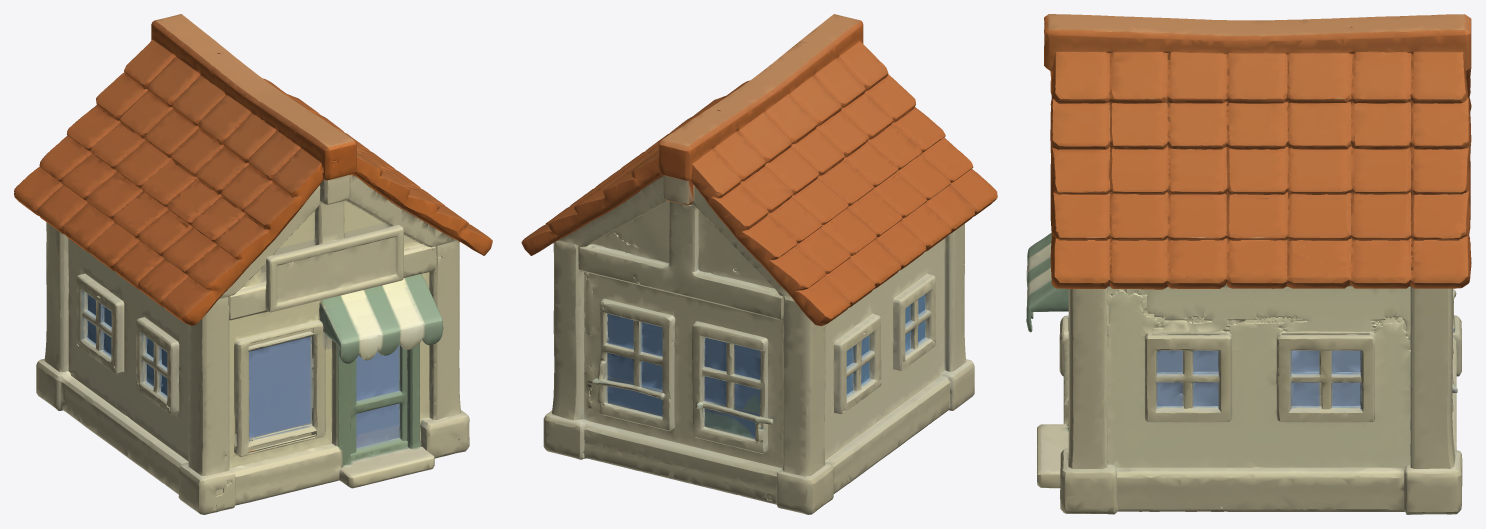
File: shop.glb
3 views of the same model, side by side, from view 1: azimuth 30°, elevation 25°; view 2: azimuth 150°, elevation 25°; view 3: azimuth 270°, elevation 25° (orthographic). The views are drawn at different scales.
Parts seen in each view (by area): view 1: geometry_0; view 2: geometry_0; view 3: geometry_0.
Part boxes in pixels (x1,y1,x2,y2): geometry_0: [14, 14, 492, 514]; geometry_0: [521, 14, 997, 514]; geometry_0: [1026, 14, 1471, 514].
Size of the model in its own units: 0.12 by 0.1267 by 0.1233.
1 material, 1 textured.
